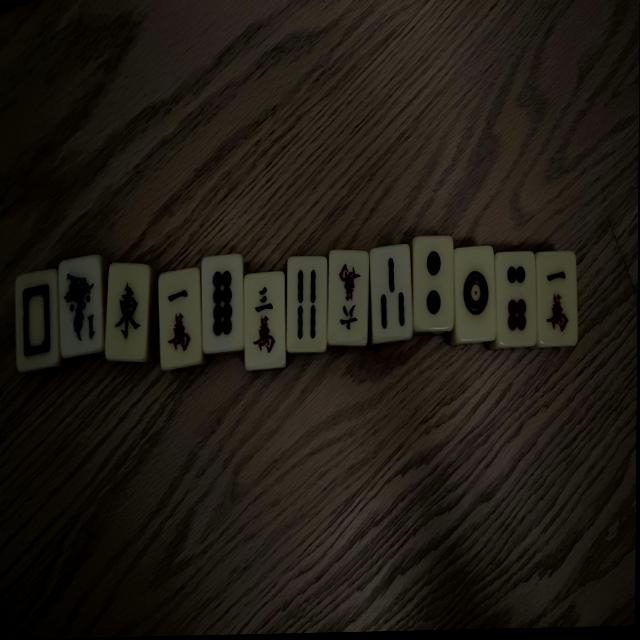1C: (159, 270, 204, 371), (535, 252, 576, 345)
1D: (455, 246, 497, 341)
1F: (56, 254, 104, 357)
2D: (410, 235, 454, 332)
3B: (369, 244, 413, 342)
3C: (244, 272, 287, 370)
4B: (288, 258, 329, 355)
6C: (328, 249, 370, 345)
6D: (495, 252, 538, 347)
8D: (201, 256, 244, 355)
EW: (106, 263, 151, 363)
WD: (15, 270, 62, 372)
